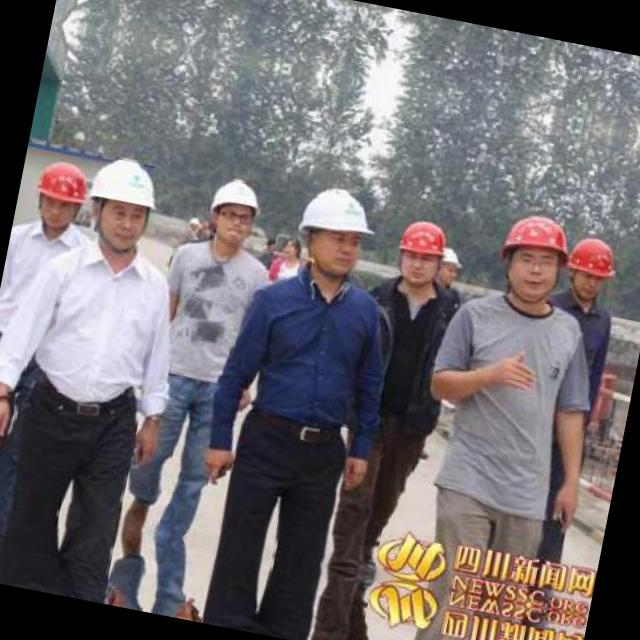helmet: (71, 140, 172, 266), (288, 175, 390, 288), (486, 200, 586, 314), (381, 207, 463, 300), (24, 146, 102, 238), (199, 170, 270, 256), (556, 224, 625, 312)
